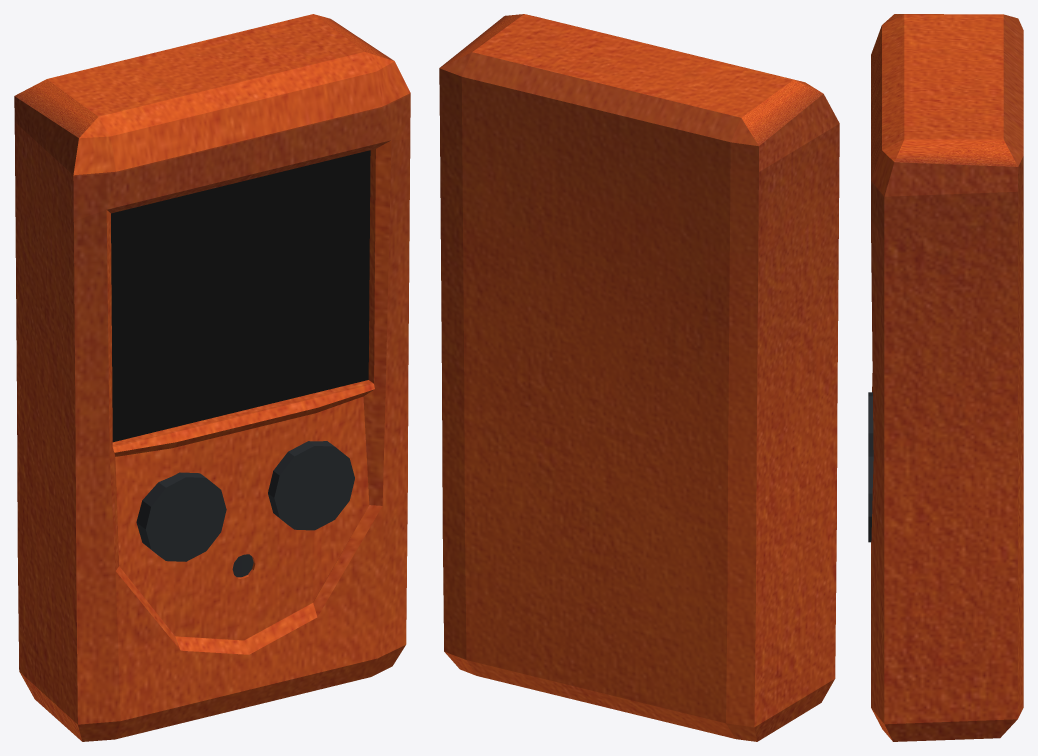
The model's file is RadiationDevice.glb.
The picture shows the model from 3 angles, left to right: view 1: azimuth 30°, elevation 25°; view 2: azimuth 150°, elevation 25°; view 3: azimuth 270°, elevation 25°; orthographic projection. The views are drawn at different scales.
Parts seen in each view (by area): view 1: Aparat; view 2: Aparat; view 3: Aparat.
Part boxes in pixels (bbox=[...]): Aparat: bbox=[14, 14, 410, 741]; Aparat: bbox=[439, 14, 839, 741]; Aparat: bbox=[868, 14, 1023, 741].
Bounding box in the file's own units: 2.83 × 4.93 × 1.17.
3 materials, 1 textured.
